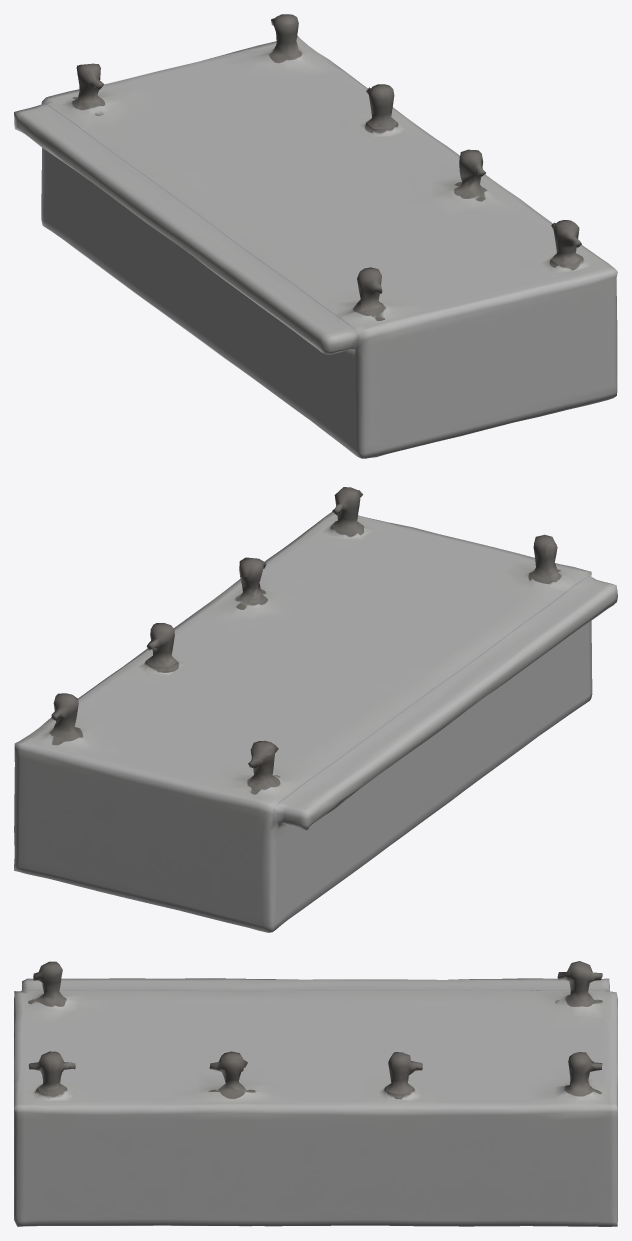
Rendered from modular_kai_2.fbx.
3 renders of one model, top to bottom at view 1: azimuth 30°, elevation 25°; view 2: azimuth 150°, elevation 25°; view 3: azimuth 270°, elevation 25°, orthographic. The views are drawn at different scales.
Visible parts, largest first — view 1: modular_kai_2; view 2: modular_kai_2; view 3: modular_kai_2.
Boxes of the visible parts, bbox=[...] form: modular_kai_2: bbox=[14, 14, 617, 458]; modular_kai_2: bbox=[14, 487, 617, 932]; modular_kai_2: bbox=[14, 961, 617, 1226].
Bounding box in the file's own units: 2.12 × 1.19 × 4.09.
1 material, 1 textured.
